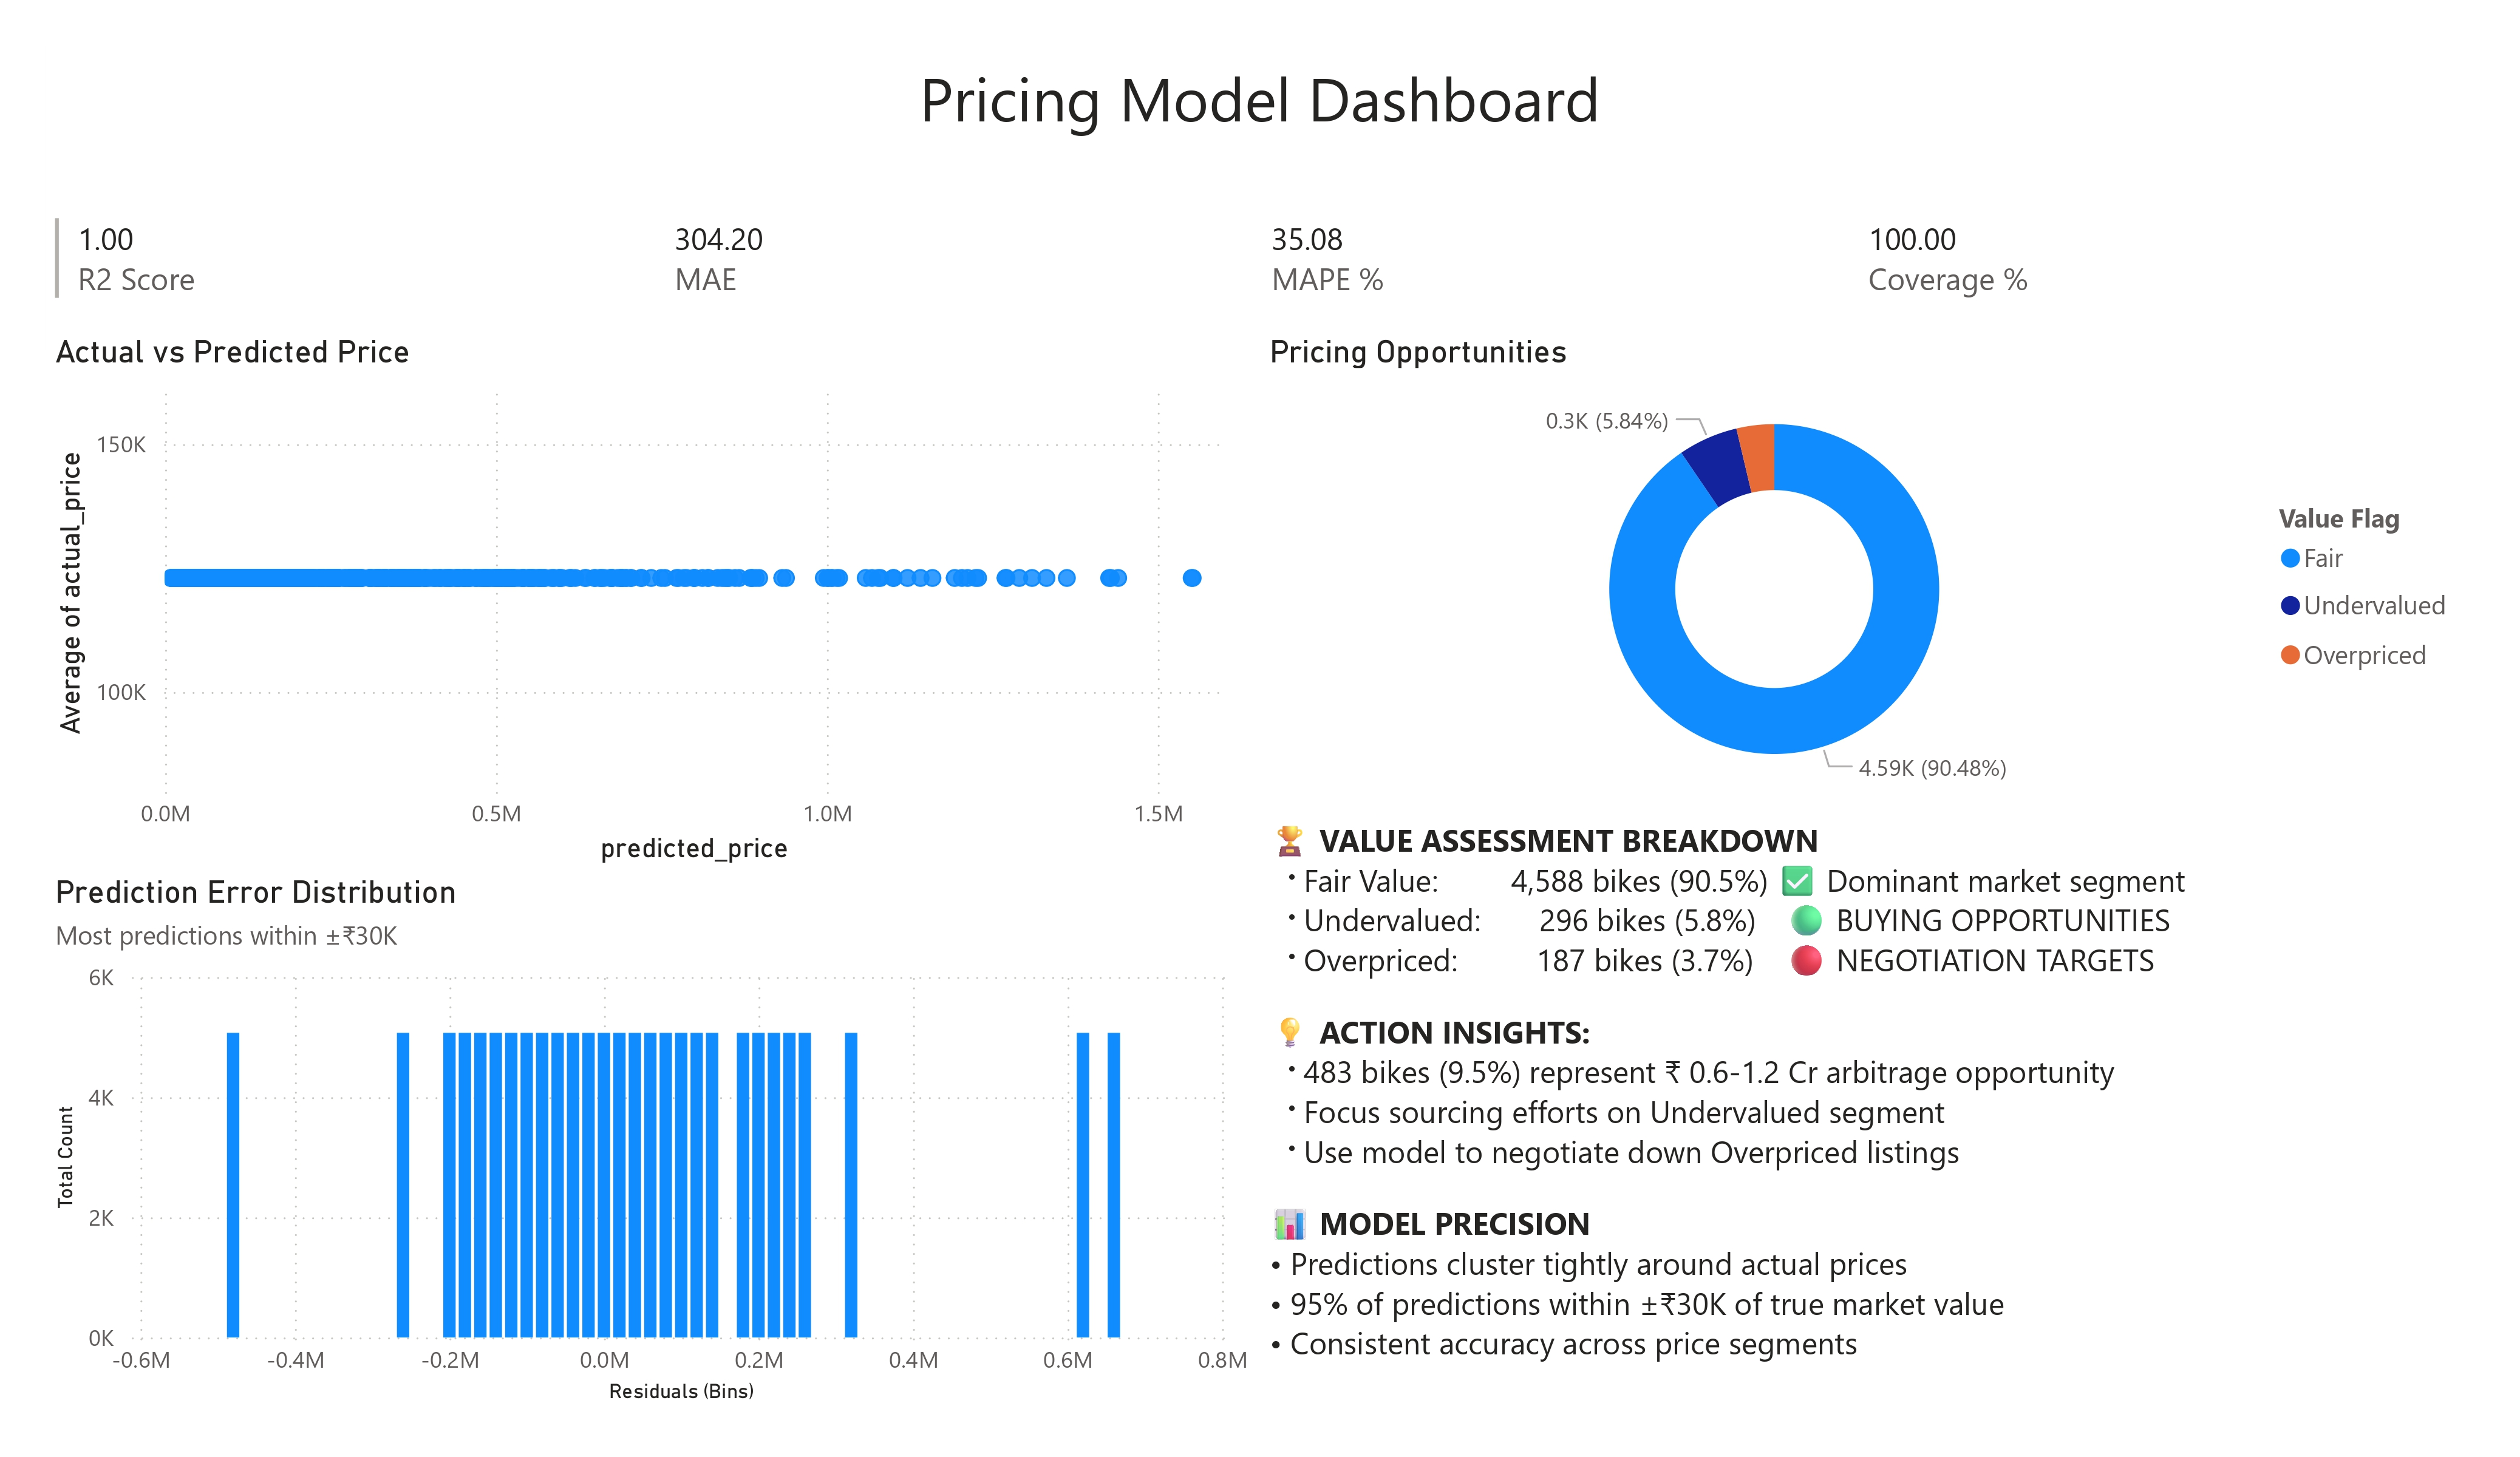

This screenshot's page, from the dashboard's own definition file:
{"tool":"powerbi","page":{"name":"Pricing Model Dashboard","canvas":[1280,720],"ordinal":2},"visuals":[{"type":"donutChart","title":"Pricing Opportunities","fields":{"Category":["bike_factory_main.value_flag"],"Y":["CountNonNull(bike_factory_main.brand)"]},"box":[640,151,640,252],"z":0},{"type":"columnChart","title":"Prediction Error Distribution","fields":{"Category":["bike_factory_predictions.residuals (bins)"],"Y":["CountNonNull(bike_factory_main.brand)"]},"box":[0,435.7,640,284],"z":1},{"type":"multiRowCard","fields":{"Values":["bike_factory_main.R2 Score","bike_factory_main.MAE","bike_factory_main.MAPE %","bike_factory_main.Coverage %"]},"box":[0,86,1280,65],"z":2},{"type":"scatterChart","title":"Actual vs Predicted Price","fields":{"X":["bike_factory_main.predicted_price"],"Y":["Avg(bike_factory_predictions.actual_price)"]},"box":[0,150.8,640,285],"z":3},{"type":"textbox","box":[640,403,640,317],"z":4},{"type":"textbox","box":[0,0,1280,85.6],"z":5}]}

Visuals, with their boxes on the page's 1280x720 design canvas (x1, y1, x2, y2). These are canvas units, not pixel positions in the 2520x1457 screenshot, which may show the page scaled, cropped or inside an application window:
"Pricing Opportunities" donutChart: select_region(640, 151, 1280, 403)
"Prediction Error Distribution" columnChart: select_region(0, 436, 640, 720)
multiRowCard - bike_factory_main.R2 Score x bike_factory_main.MAE: select_region(0, 86, 1280, 151)
"Actual vs Predicted Price" scatterChart: select_region(0, 151, 640, 436)
textbox: select_region(640, 403, 1280, 720)
textbox: select_region(0, 0, 1280, 86)
